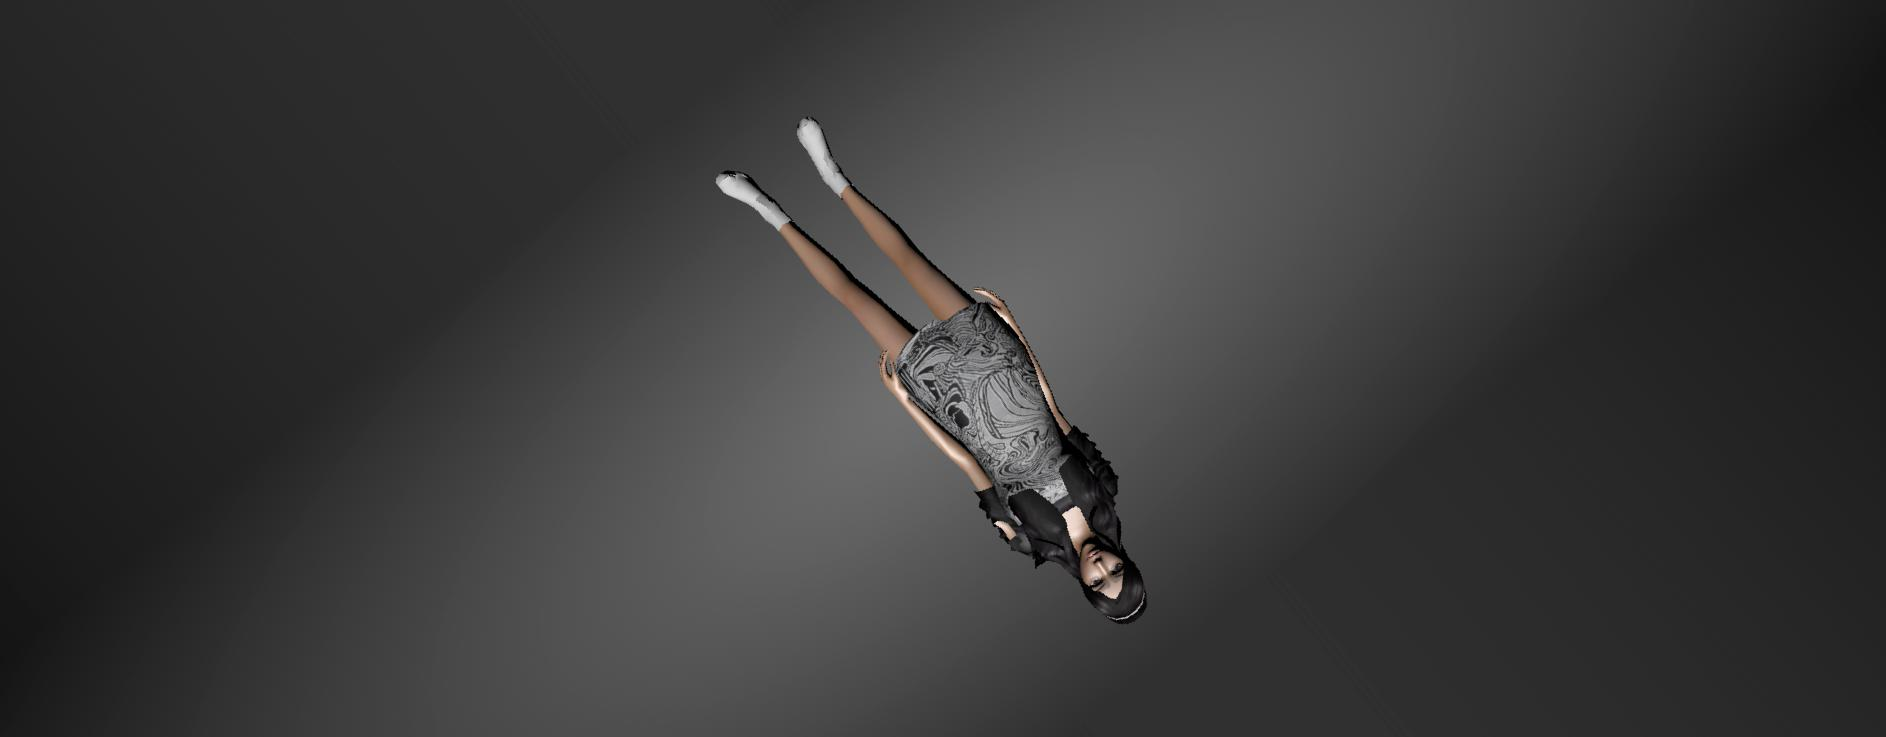clip: (988, 515, 1024, 547)
